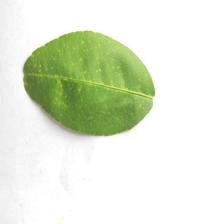greening: (20, 23, 156, 136)
